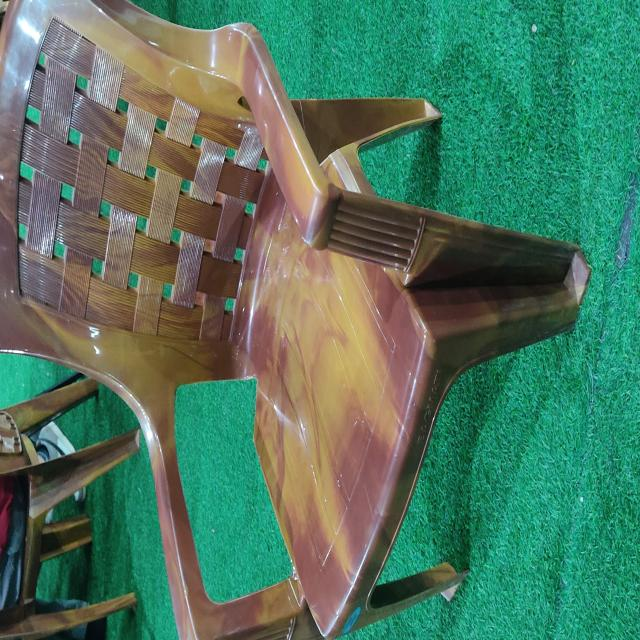Camer Stand: (1, 1, 591, 637)
